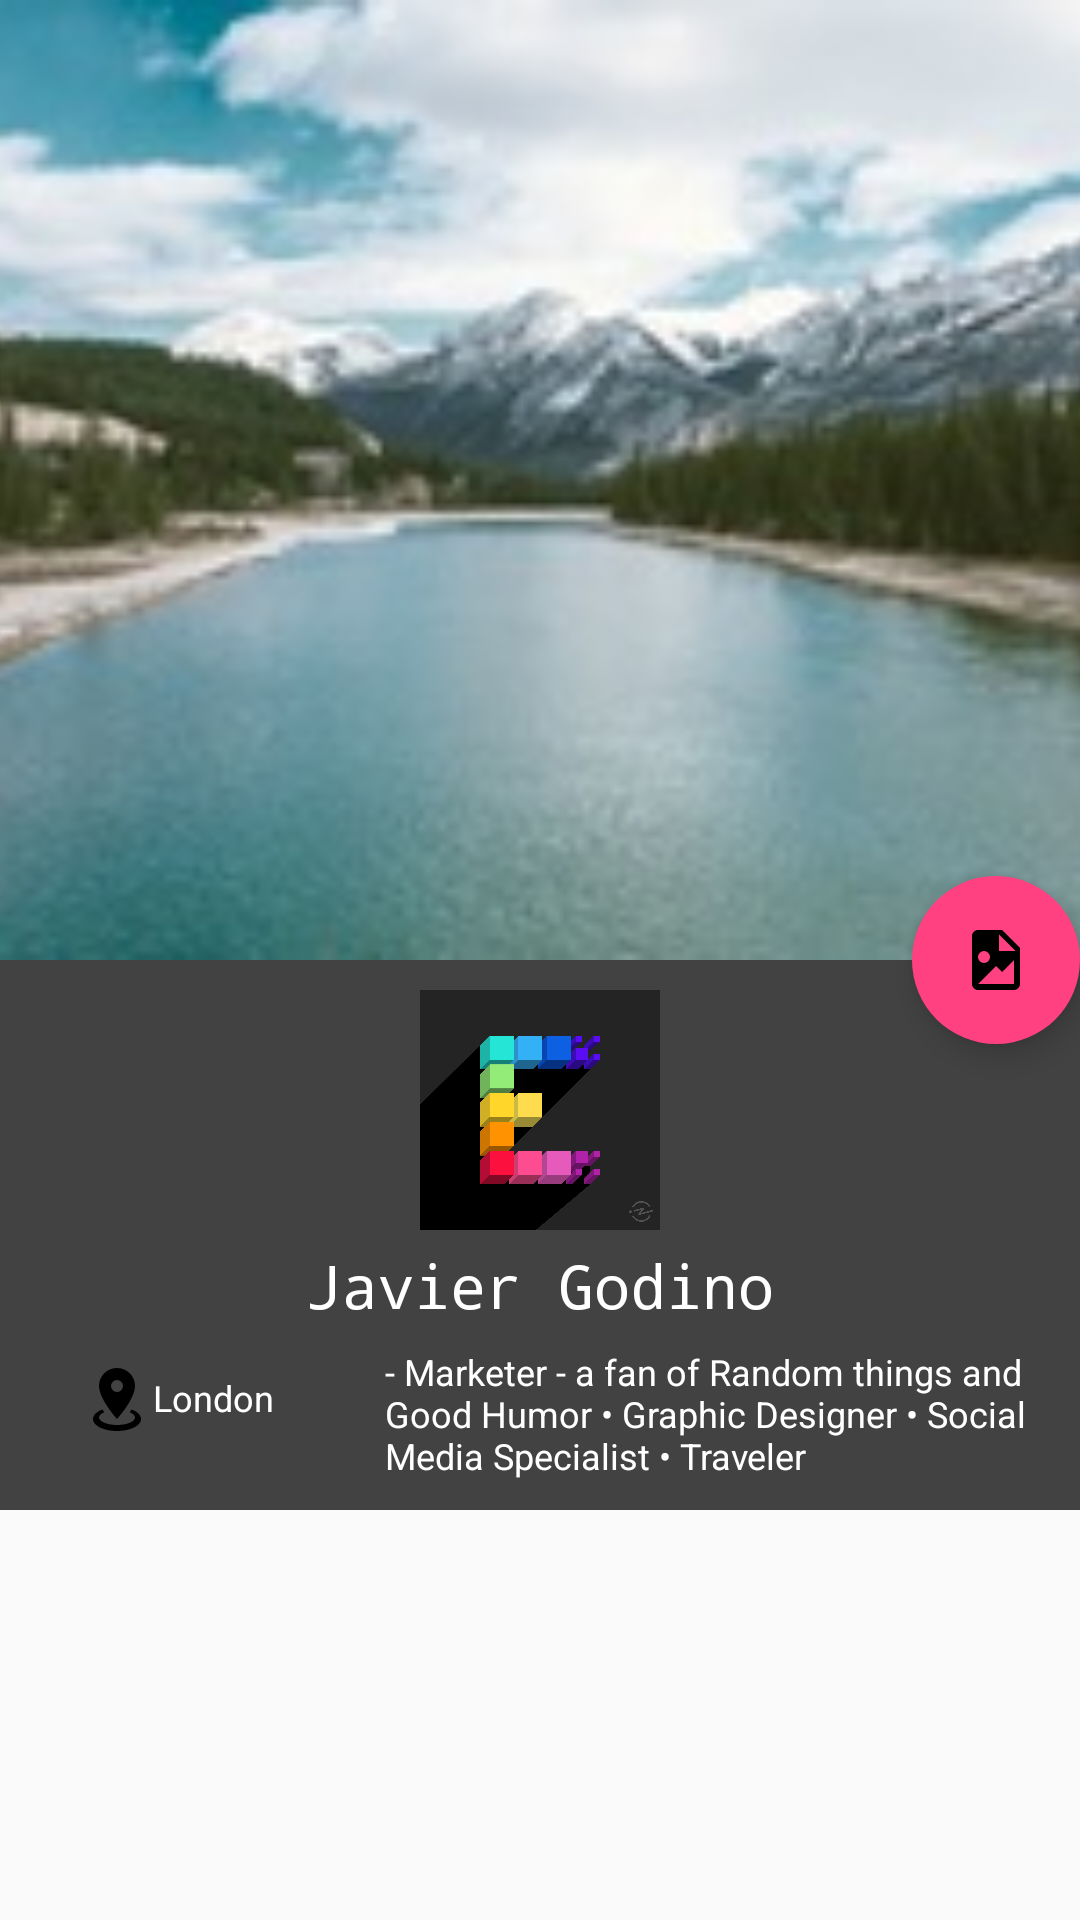

Point at icon controls on the screen. Image size 1080 x 1920, points as [x,y].
file: [996,960]
